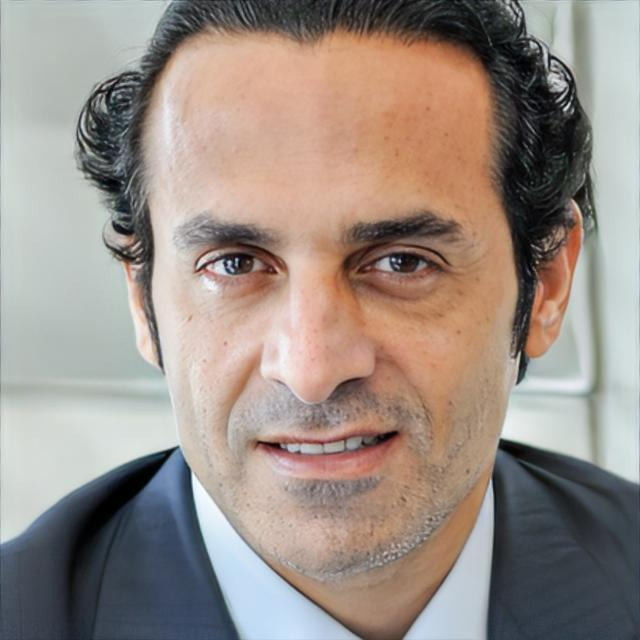disgust: (140, 27, 520, 580)
